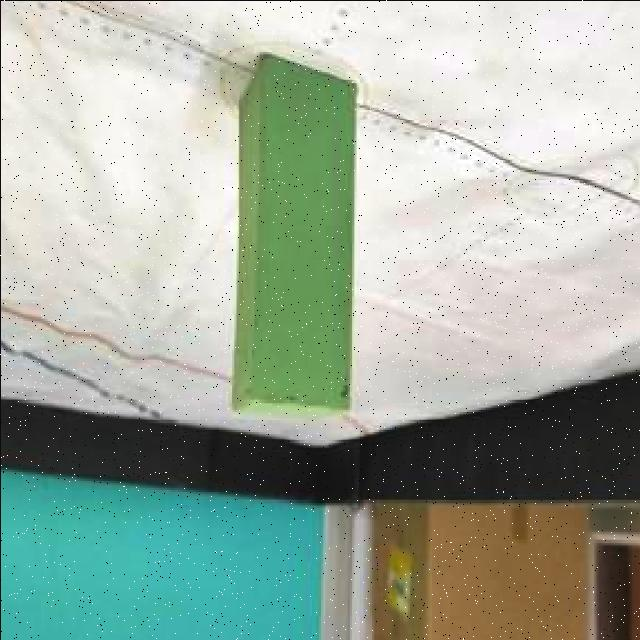greenbox: (228, 50, 359, 426)
